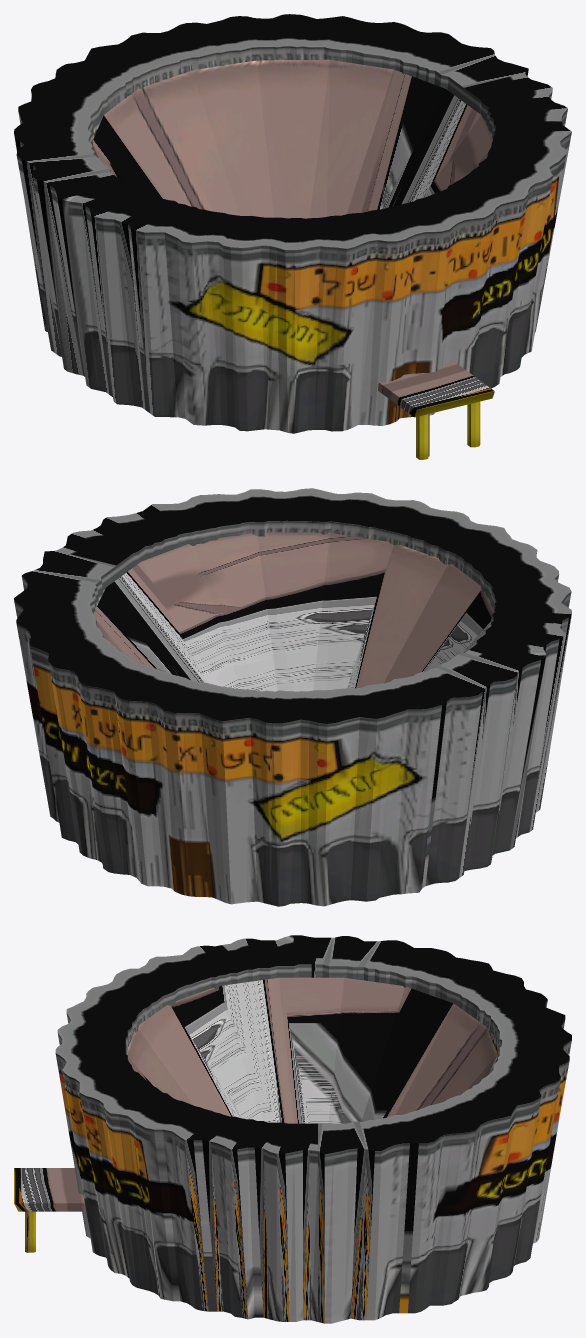
Rendered from Theater.glb.
The picture shows the model from 3 angles, top to bottom: view 1: azimuth 30°, elevation 25°; view 2: azimuth 150°, elevation 25°; view 3: azimuth 270°, elevation 25°; orthographic projection. The views are drawn at different scales.
Visible parts, largest first — view 1: Theater; view 2: Theater; view 3: Theater.
Boxes of the visible parts, x1=… form: Theater: x1=14, y1=14, x2=571, y2=459; Theater: x1=14, y1=488, x2=571, y2=906; Theater: x1=14, y1=935, x2=571, y2=1323.
Size of the model in its own units: 351 by 144 by 378.
1 material, 1 textured.
